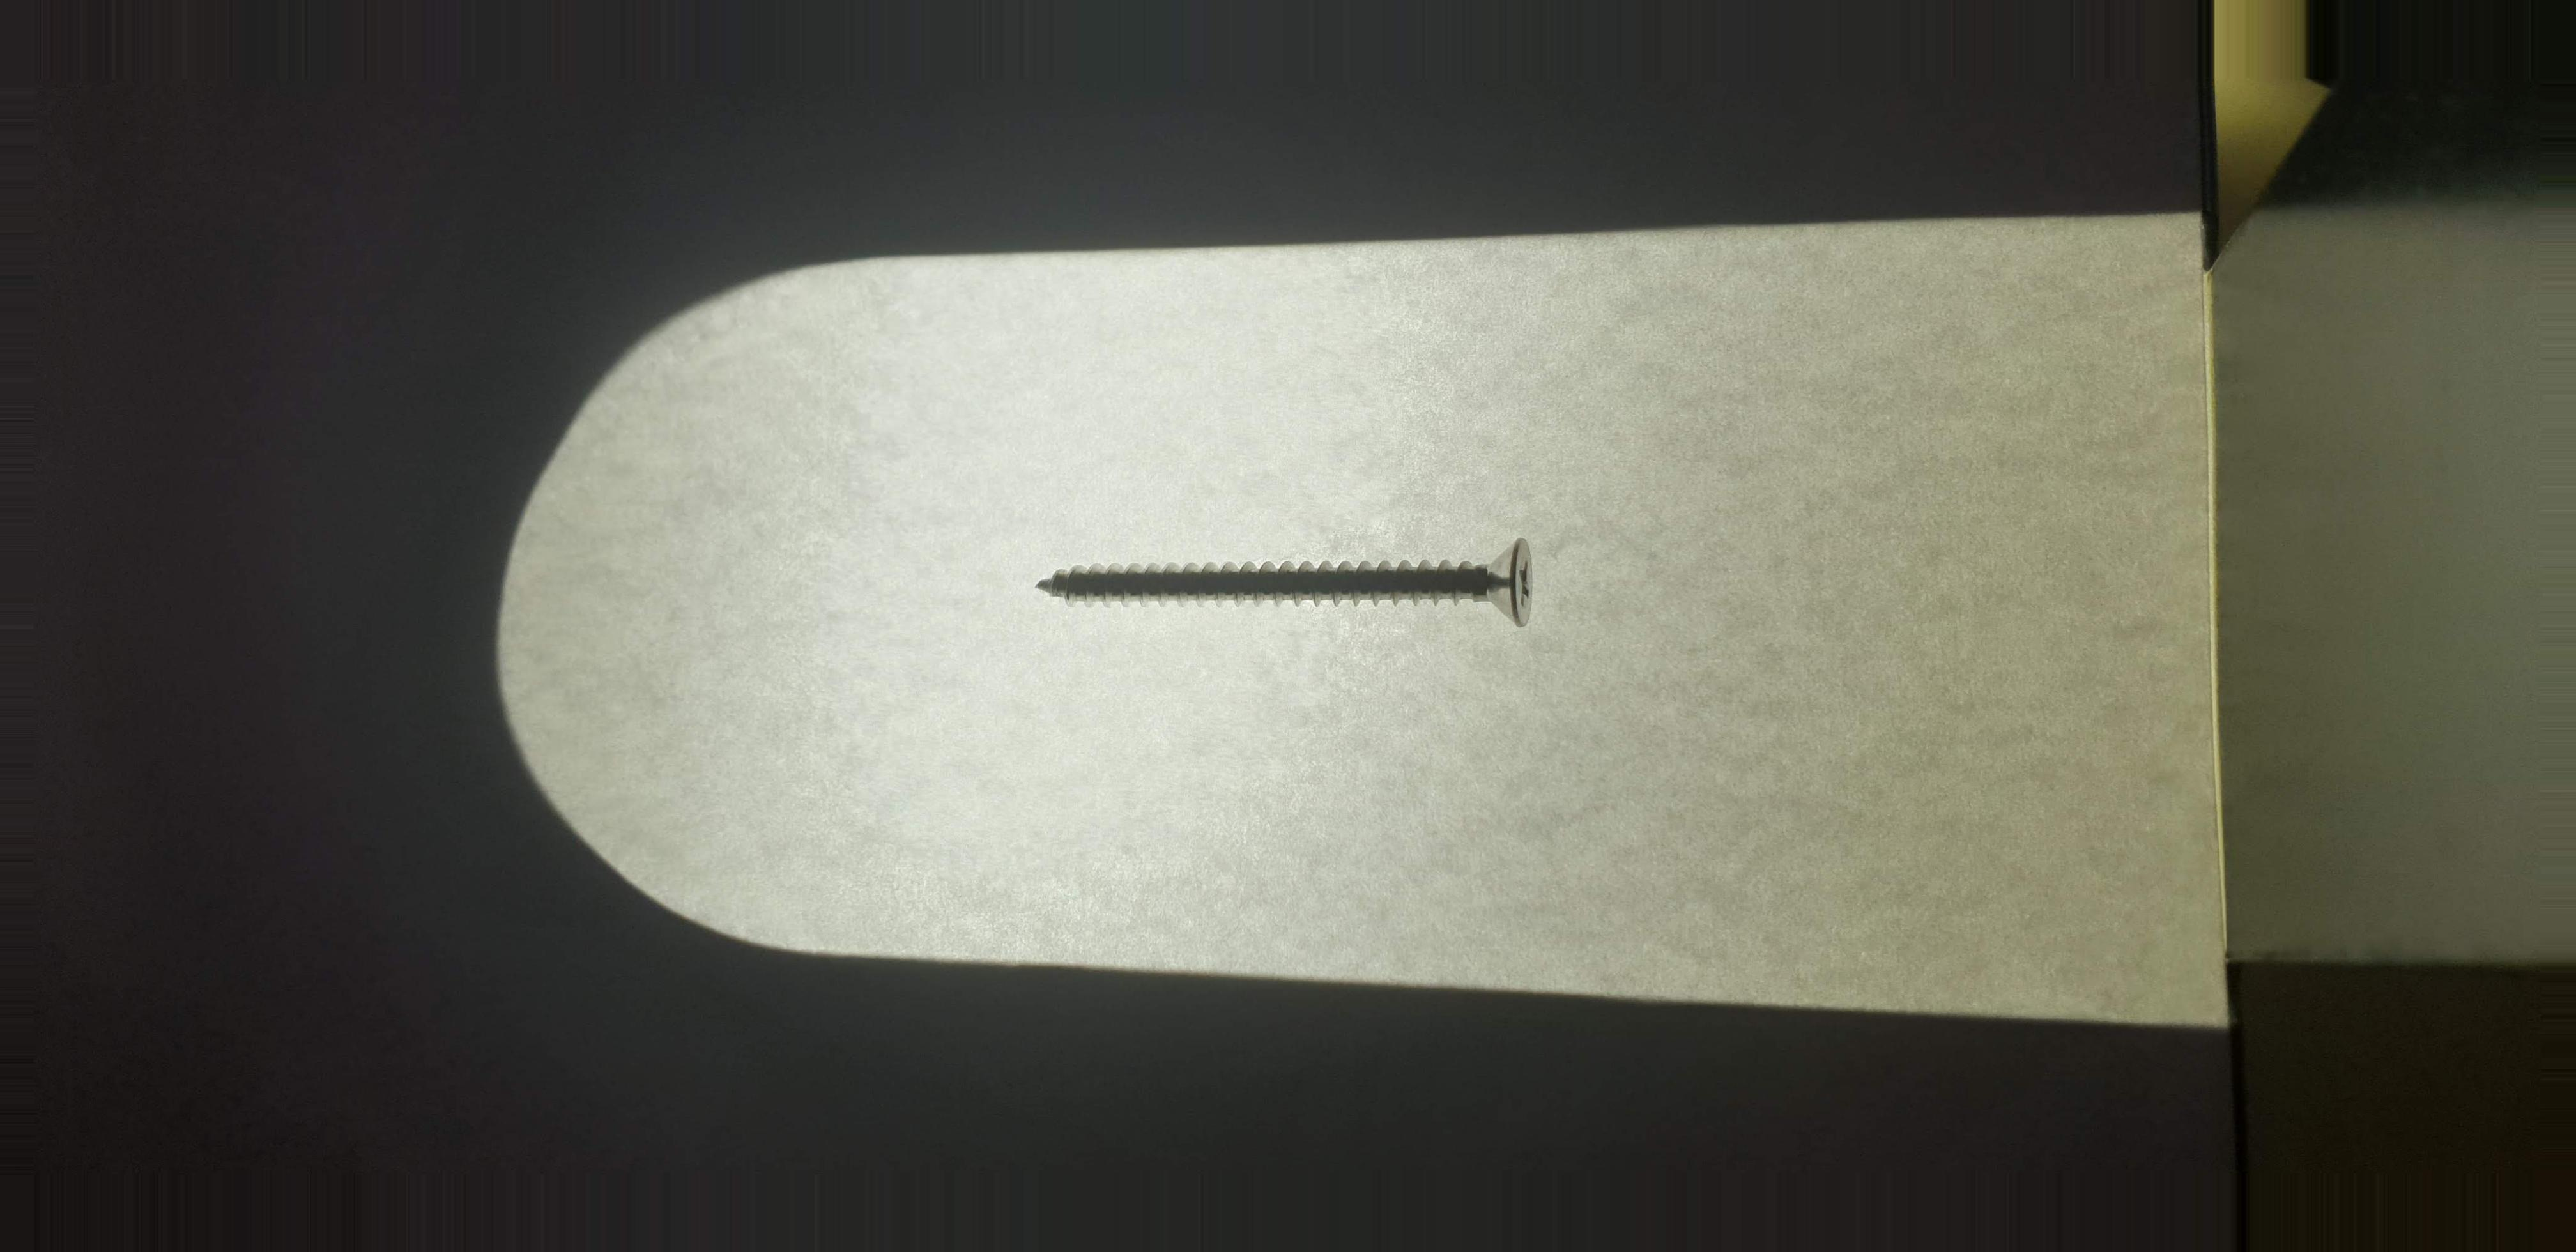S001: (1012, 513, 1600, 667)
